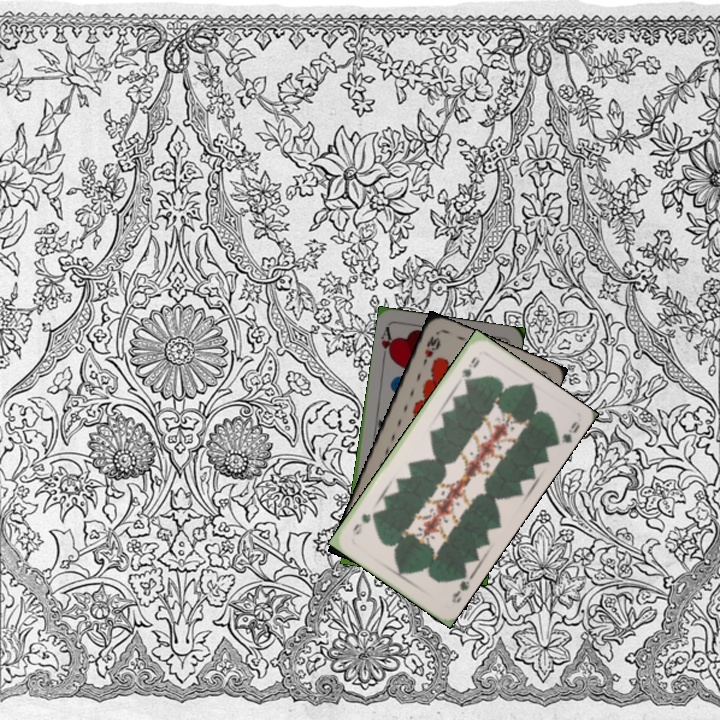G9: (447, 570, 472, 606), (457, 353, 482, 386)
H10: (419, 331, 443, 368)
HA: (377, 322, 397, 363)
